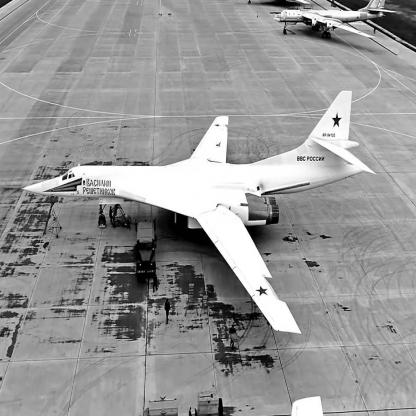Tu160: (23, 91, 378, 336)
Tu95: (270, 2, 398, 40)
